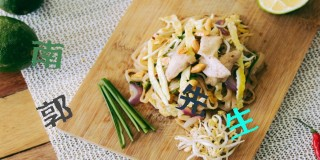先: (177, 84, 209, 117)
南: (30, 39, 64, 72)
生: (226, 105, 260, 139)
郭: (36, 95, 74, 128)
